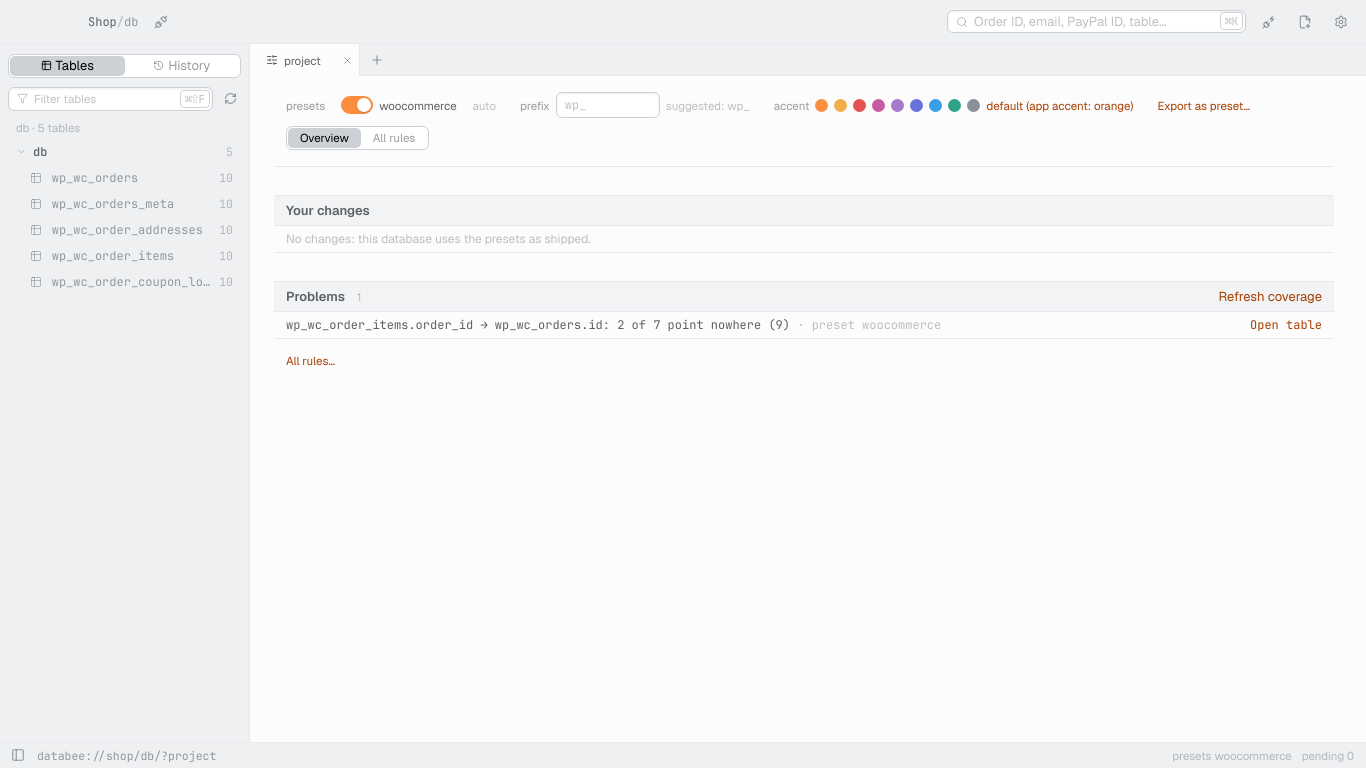
Test case: ProjectPanel › overview › problems › counts again when Refresh coverage is clicked
Expected: the element named "Databases" is shown, [16,144,233,290]
Expected: the element named "Presets and prefix" is shown, [274,76,1334,167]
What coordinates should you click on to do the following:
click the button "Refresh coverage"
I would click on:
 (1270, 296)
Its box is [1218,288,1322,305].
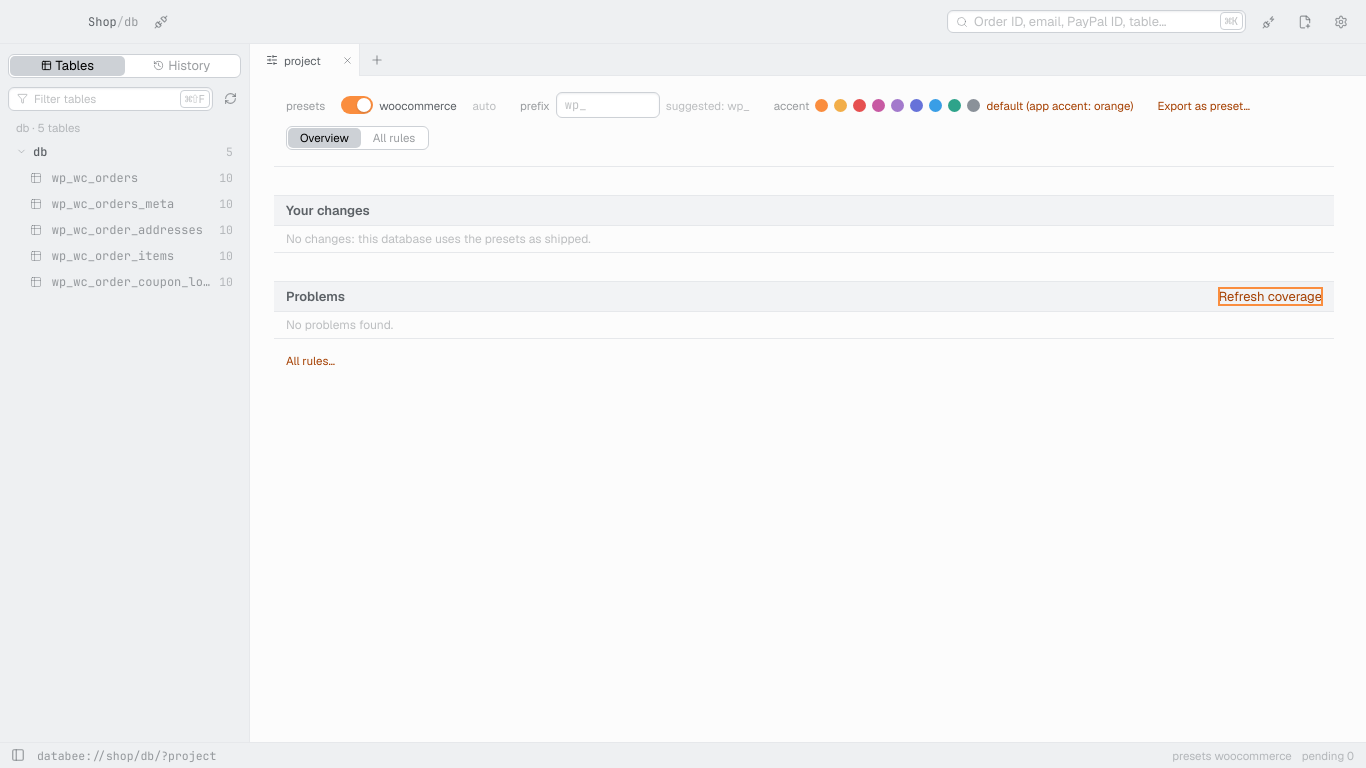
Now the text "No problems found." is shown, box [274,312,1334,339]
